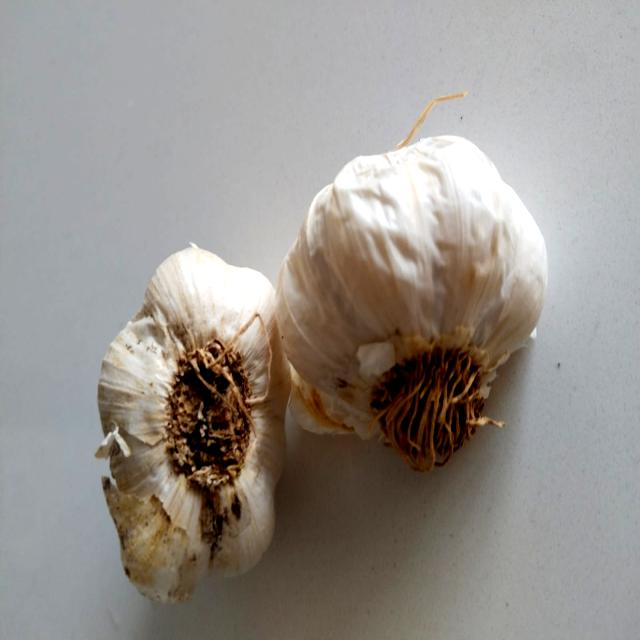garlic: (283, 145, 562, 469), (70, 207, 285, 620)
